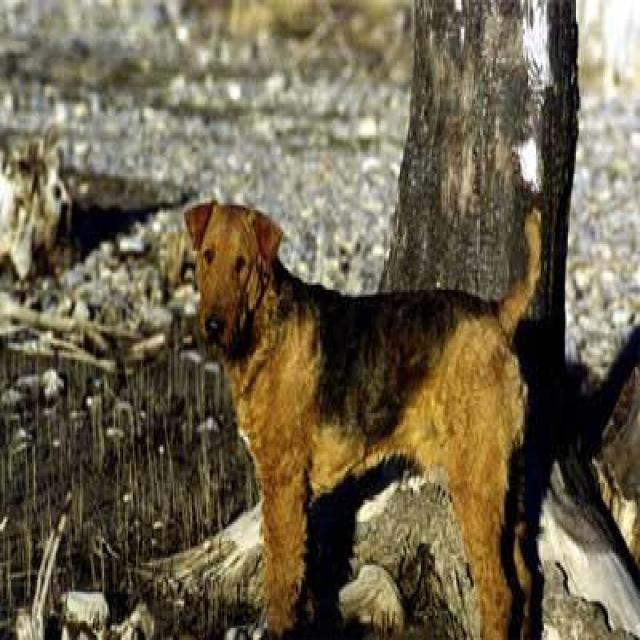airedale: (179, 193, 549, 635)
